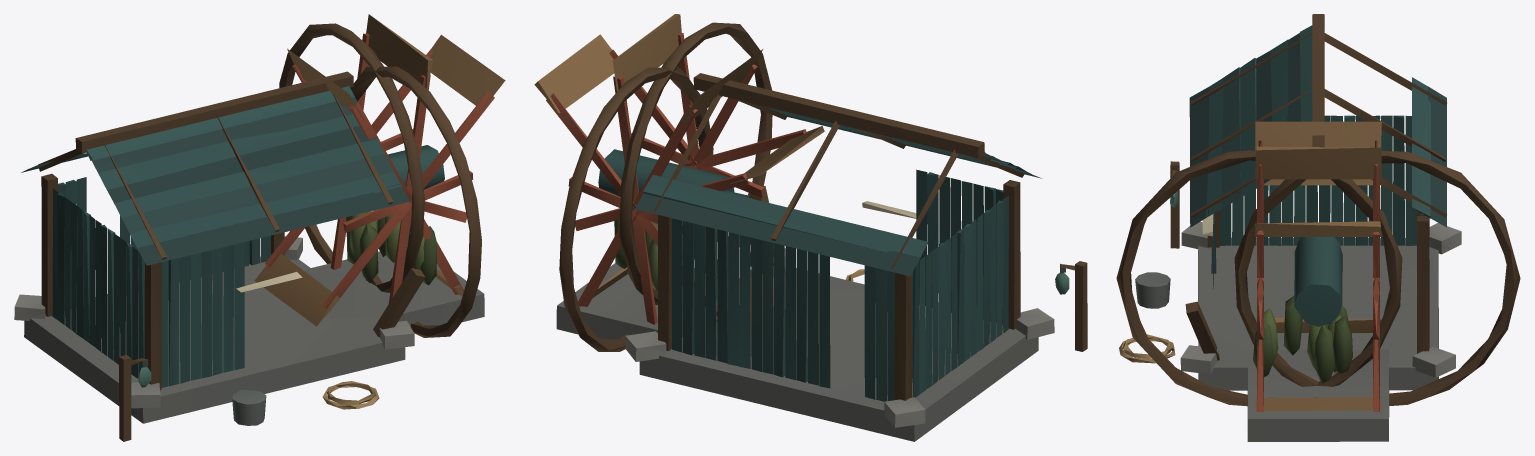
Rendered from sluice_shed_c_lod2.glb.
3 views of the same model, side by side, from view 1: azimuth 30°, elevation 25°; view 2: azimuth 150°, elevation 25°; view 3: azimuth 270°, elevation 25° (orthographic). The views are drawn at different scales.
Visible parts, largest first — view 1: Surface.001; view 2: Surface.001; view 3: Surface.001.
Part boxes in pixels (x1,y1,x2,y2): Surface.001: [14, 14, 505, 441]; Surface.001: [534, 14, 1087, 441]; Surface.001: [1116, 14, 1520, 441].
Size of the model in its own units: 9 by 5.63 by 7.33.
